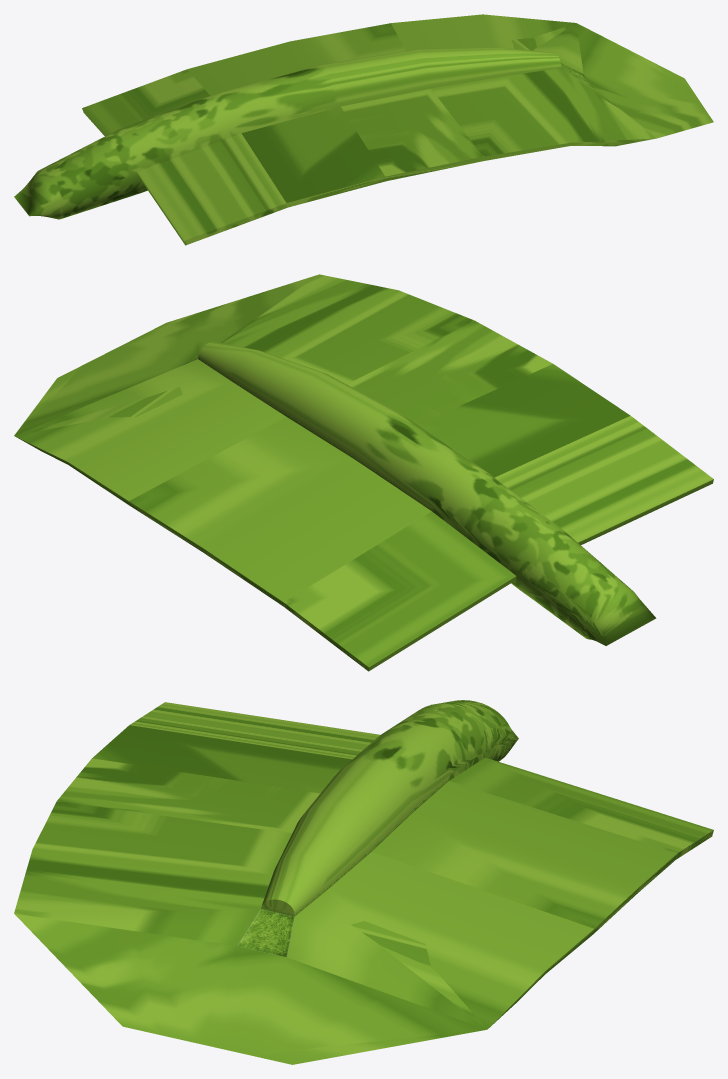
The model's file is sage.fbx.
The picture shows the model from 3 angles, top to bottom: view 1: azimuth 30°, elevation 25°; view 2: azimuth 150°, elevation 25°; view 3: azimuth 270°, elevation 25°; orthographic projection. The views are drawn at different scales.
Visible parts, largest first — view 1: polySurface62; view 2: polySurface62; view 3: polySurface62.
Part boxes in pixels (x1=…): polySurface62: x1=14, y1=14, x2=713, y2=245; polySurface62: x1=14, y1=274, x2=713, y2=671; polySurface62: x1=14, y1=700, x2=713, y2=1064.
Size of the model in its own units: 20.32 by 4.04 by 15.54.
